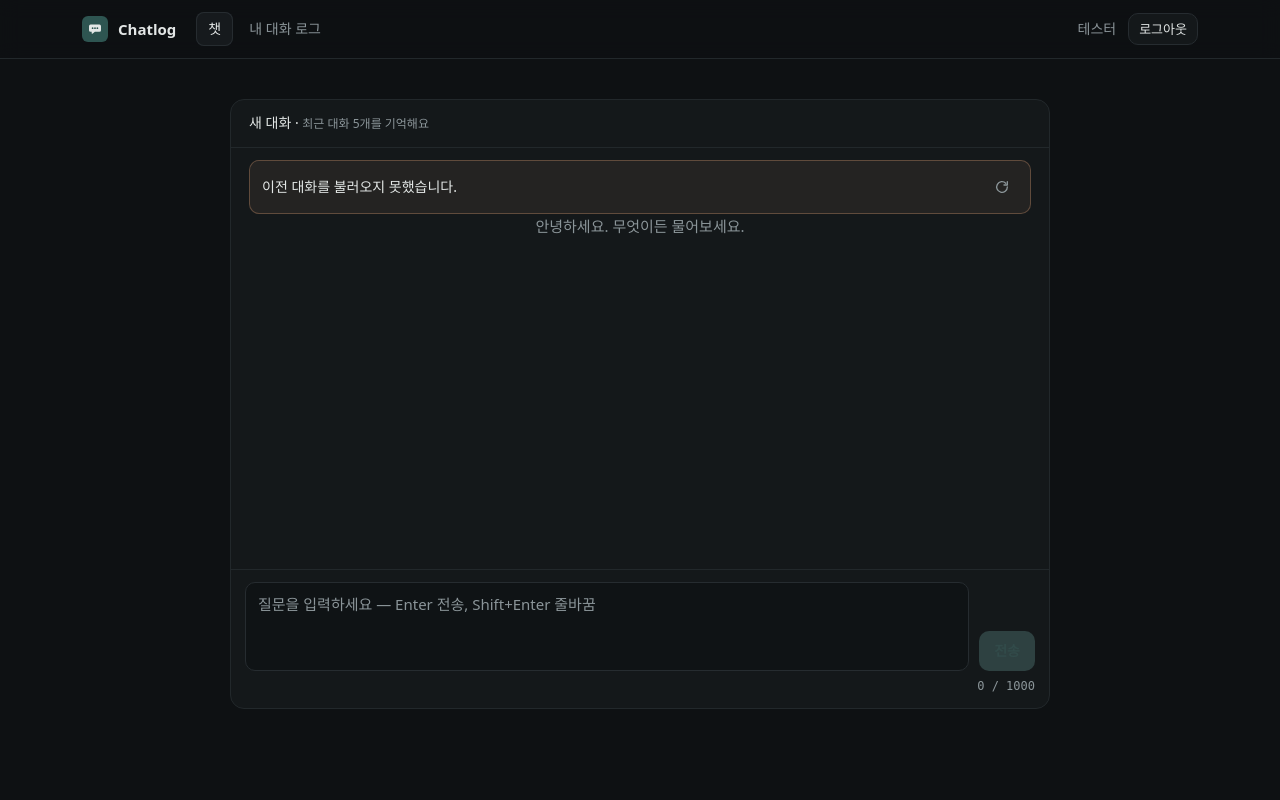
헤더 — 현재 메뉴 표시 › 메뉴를 누르면 해당 화면으로 이동한다
Expected: the button "로그아웃" is shown, [1128,13,1198,45]
Step 1. Click the link "내 대화 로그" → point(285, 28), box [249,19,321,38]
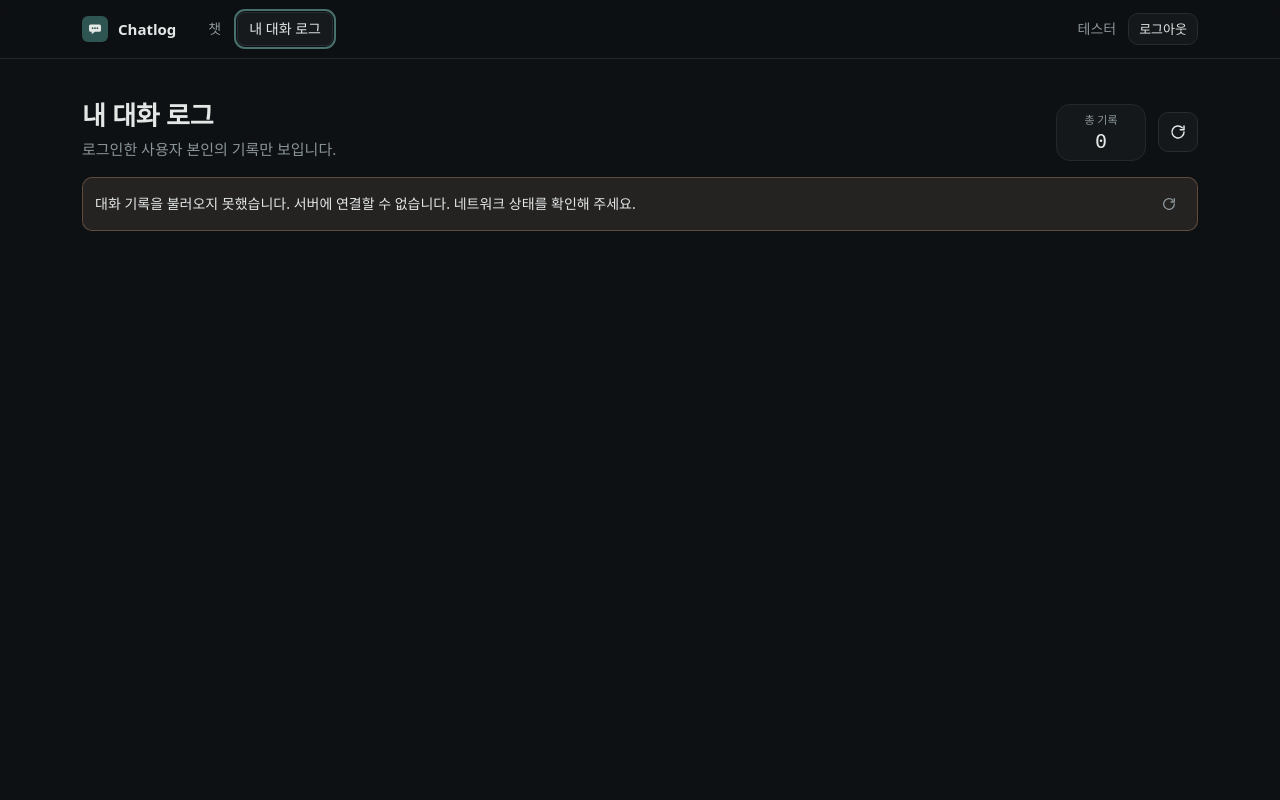
Result: the heading "내 대화 로그" is shown at [82,97,213,133]
